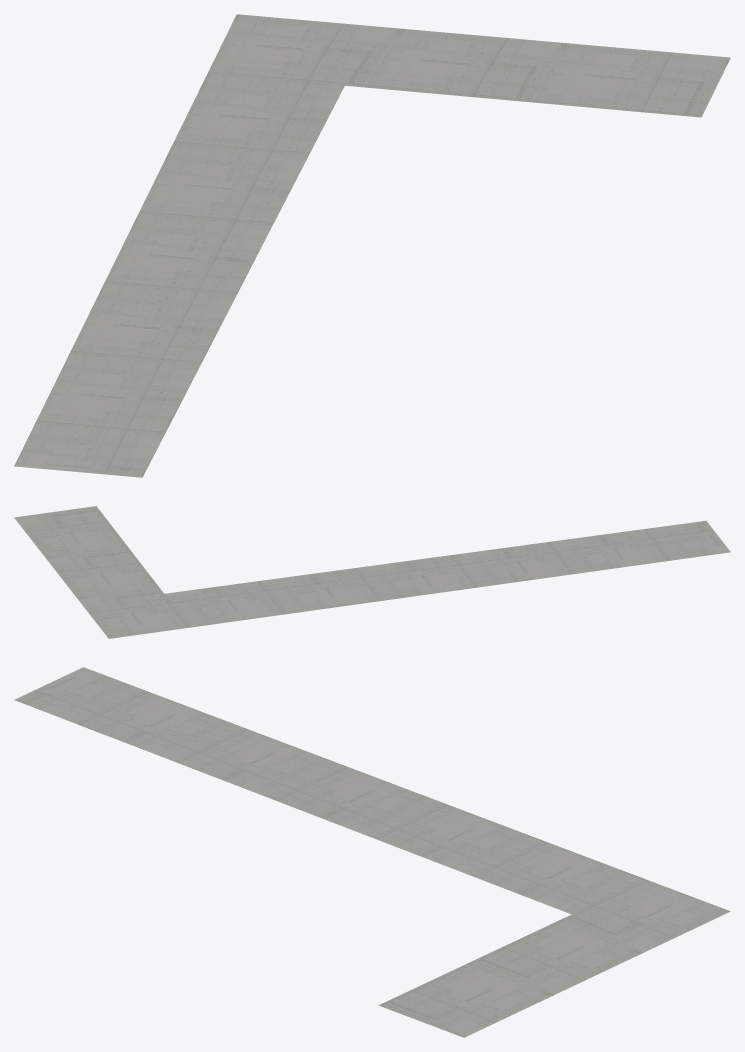
The model's file is kd_stage_1366d7_7_1_bounded.glb.
3 views of the same model, one above another, from view 1: azimuth 30°, elevation 25°; view 2: azimuth 150°, elevation 25°; view 3: azimuth 270°, elevation 25° (orthographic). The views are drawn at different scales.
Visible parts, largest first — view 1: kd_stage_1366d7_7_1_bounded; view 2: kd_stage_1366d7_7_1_bounded; view 3: kd_stage_1366d7_7_1_bounded.
Part boxes in pixels (x1,y1,x2,y2): kd_stage_1366d7_7_1_bounded: (14,14,730,477); kd_stage_1366d7_7_1_bounded: (14,506,730,638); kd_stage_1366d7_7_1_bounded: (14,667,730,1037).
Size of the model in its own units: 162 by 9.78e-06 by 132.
1 material, 1 textured.
